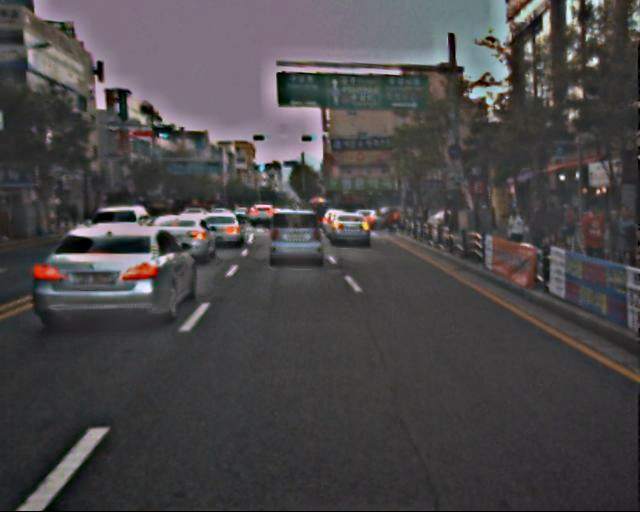person: (575, 204, 607, 281), (601, 207, 632, 282), (524, 202, 554, 276), (554, 199, 579, 259), (502, 206, 526, 265)
